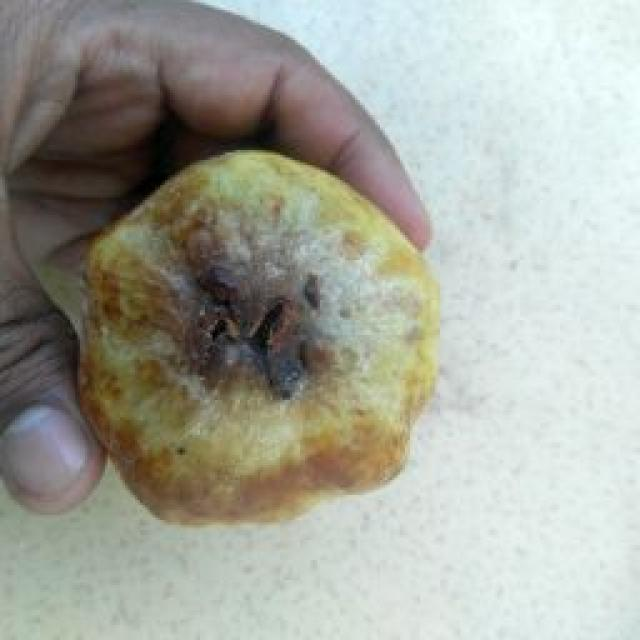Bad_Guava: (84, 151, 439, 521)
